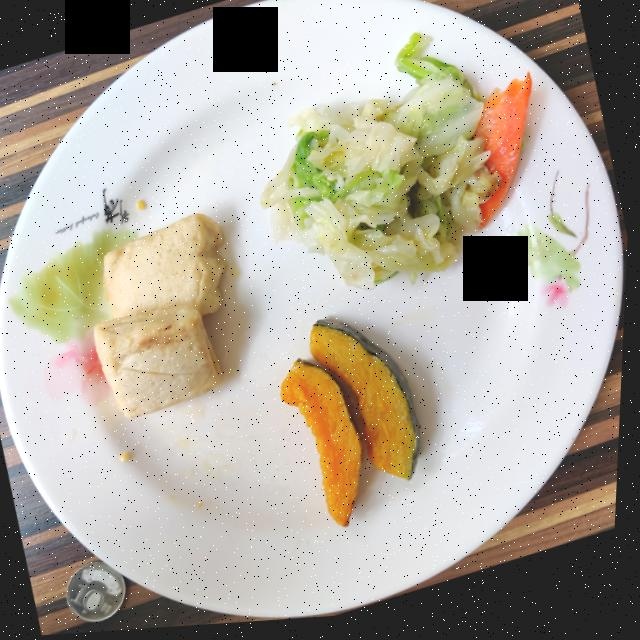cabbage: (262, 38, 532, 294)
coin: (72, 562, 131, 622)
creamy tofu -without sauce-: (96, 215, 228, 419)
pumpkin: (283, 322, 423, 530)
